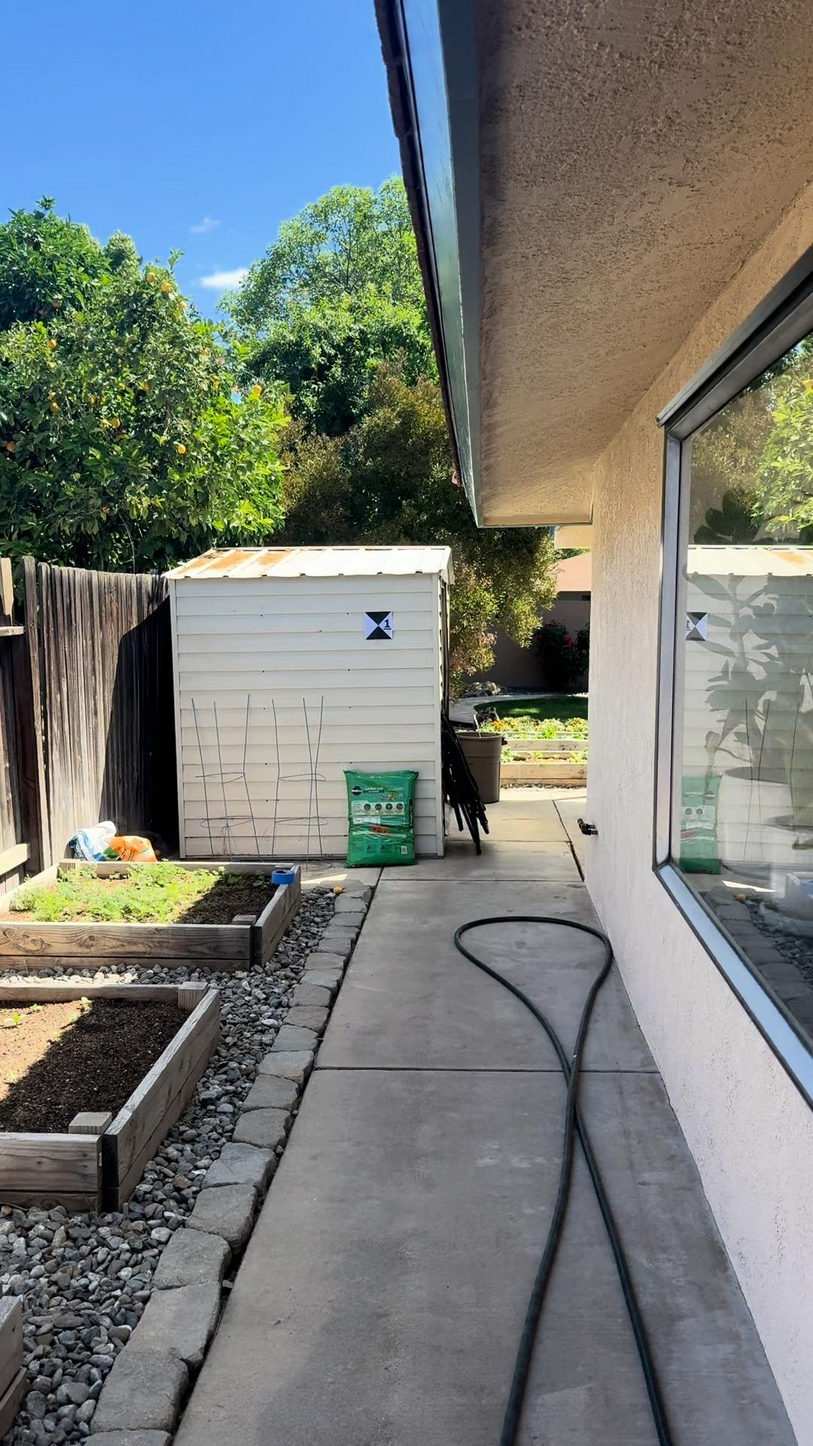target1: (363, 610, 394, 641)
